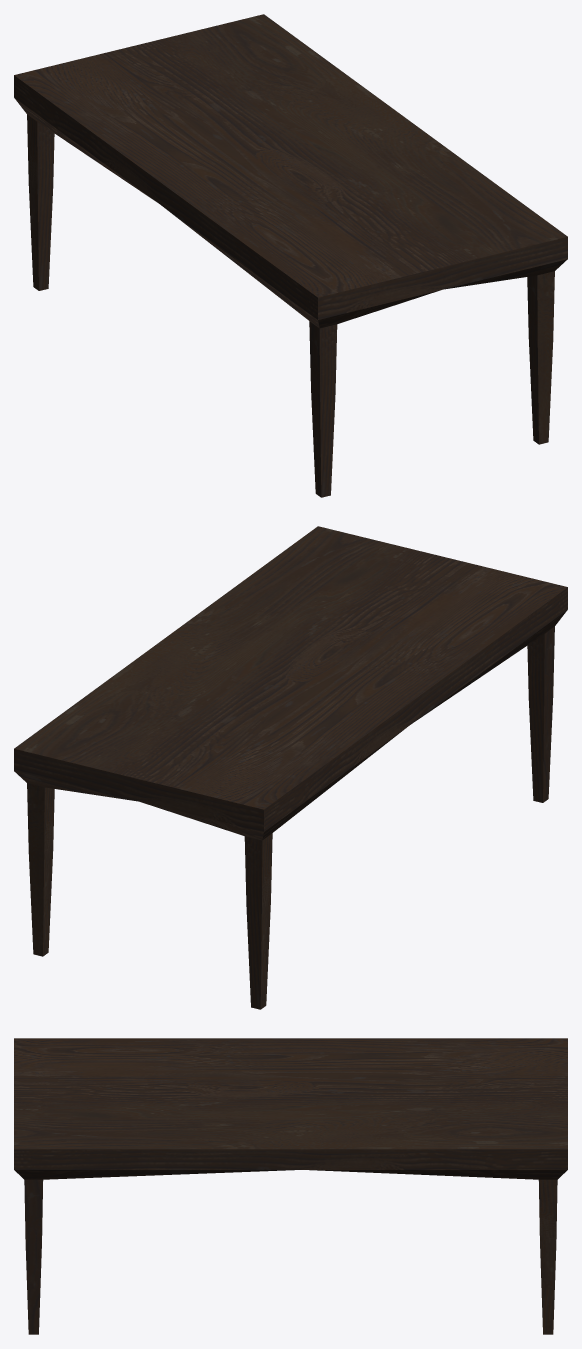
The model's file is table.glb.
The picture shows the model from 3 angles, top to bottom: view 1: azimuth 30°, elevation 25°; view 2: azimuth 150°, elevation 25°; view 3: azimuth 270°, elevation 25°; orthographic projection. The views are drawn at different scales.
Parts seen in each view (by area): view 1: LargeTable; view 2: LargeTable; view 3: LargeTable.
Part boxes in pixels (x1,y1,x2,y2): LargeTable: [14, 14, 567, 497]; LargeTable: [14, 526, 567, 1009]; LargeTable: [14, 1038, 567, 1334].
Bounding box in the file's own units: 0.585 × 0.4669 × 1.23.
Materials: 1 (1 with a texture image).
